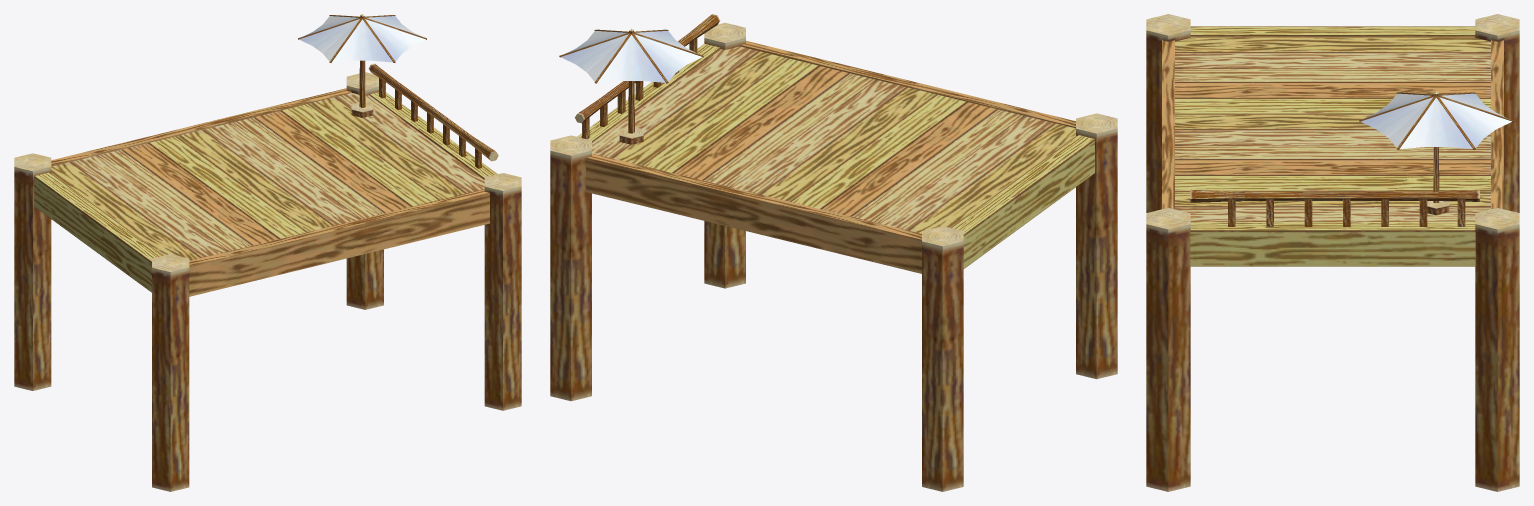
File: riccostand_bake.dae
3 renders of one model, left to right at view 1: azimuth 30°, elevation 25°; view 2: azimuth 150°, elevation 25°; view 3: azimuth 270°, elevation 25°, orthographic. The views are drawn at different scales.
Visible parts, largest first — view 1: m0; view 2: m0; view 3: m0.
Boxes of the visible parts, bbox=[...] form: m0: bbox=[14, 14, 521, 491]; m0: bbox=[550, 14, 1117, 491]; m0: bbox=[1146, 14, 1519, 491].
Size of the model in its own units: 1993 by 1602 by 1453.
2 materials, 2 textured.
